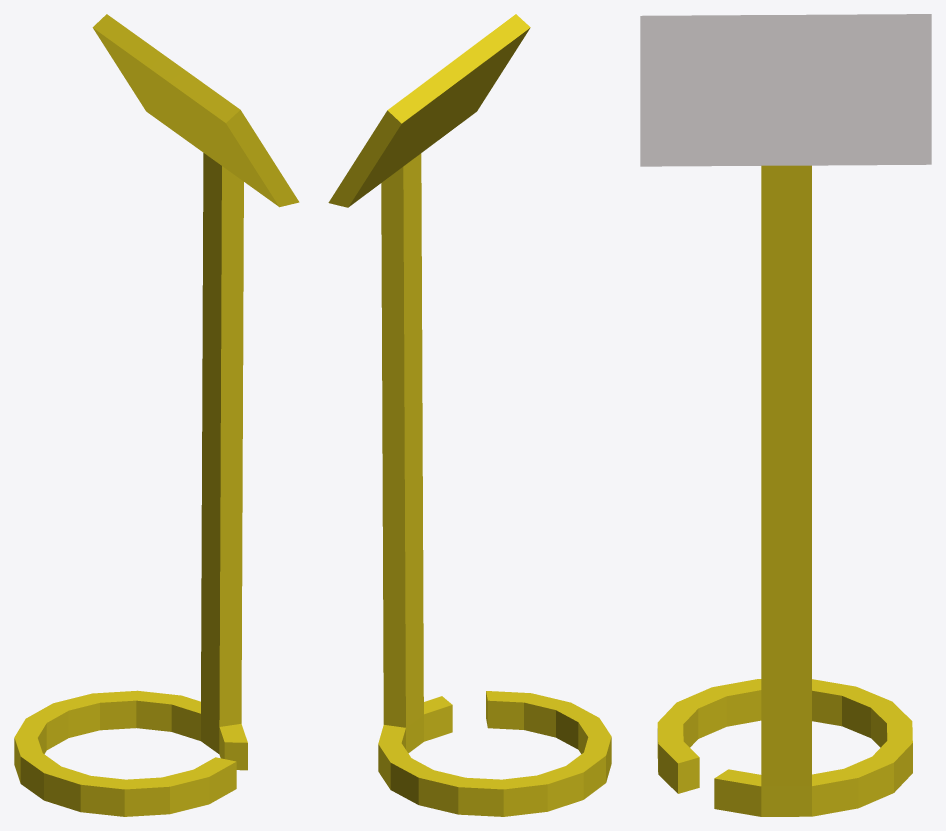
File: InfoStand.fbx
3 views of the same model, side by side, from view 1: azimuth 30°, elevation 25°; view 2: azimuth 150°, elevation 25°; view 3: azimuth 270°, elevation 25° (orthographic). The views are drawn at different scales.
Visible parts, largest first — view 1: Circle.001; view 2: Circle.001; view 3: Circle.001.
Boxes of the visible parts, x1,y1,x2,y2 form: Circle.001: [14, 14, 299, 816]; Circle.001: [328, 14, 611, 816]; Circle.001: [640, 14, 931, 816].
Bounding box in the file's own units: 58.05 × 190 × 65.03.
